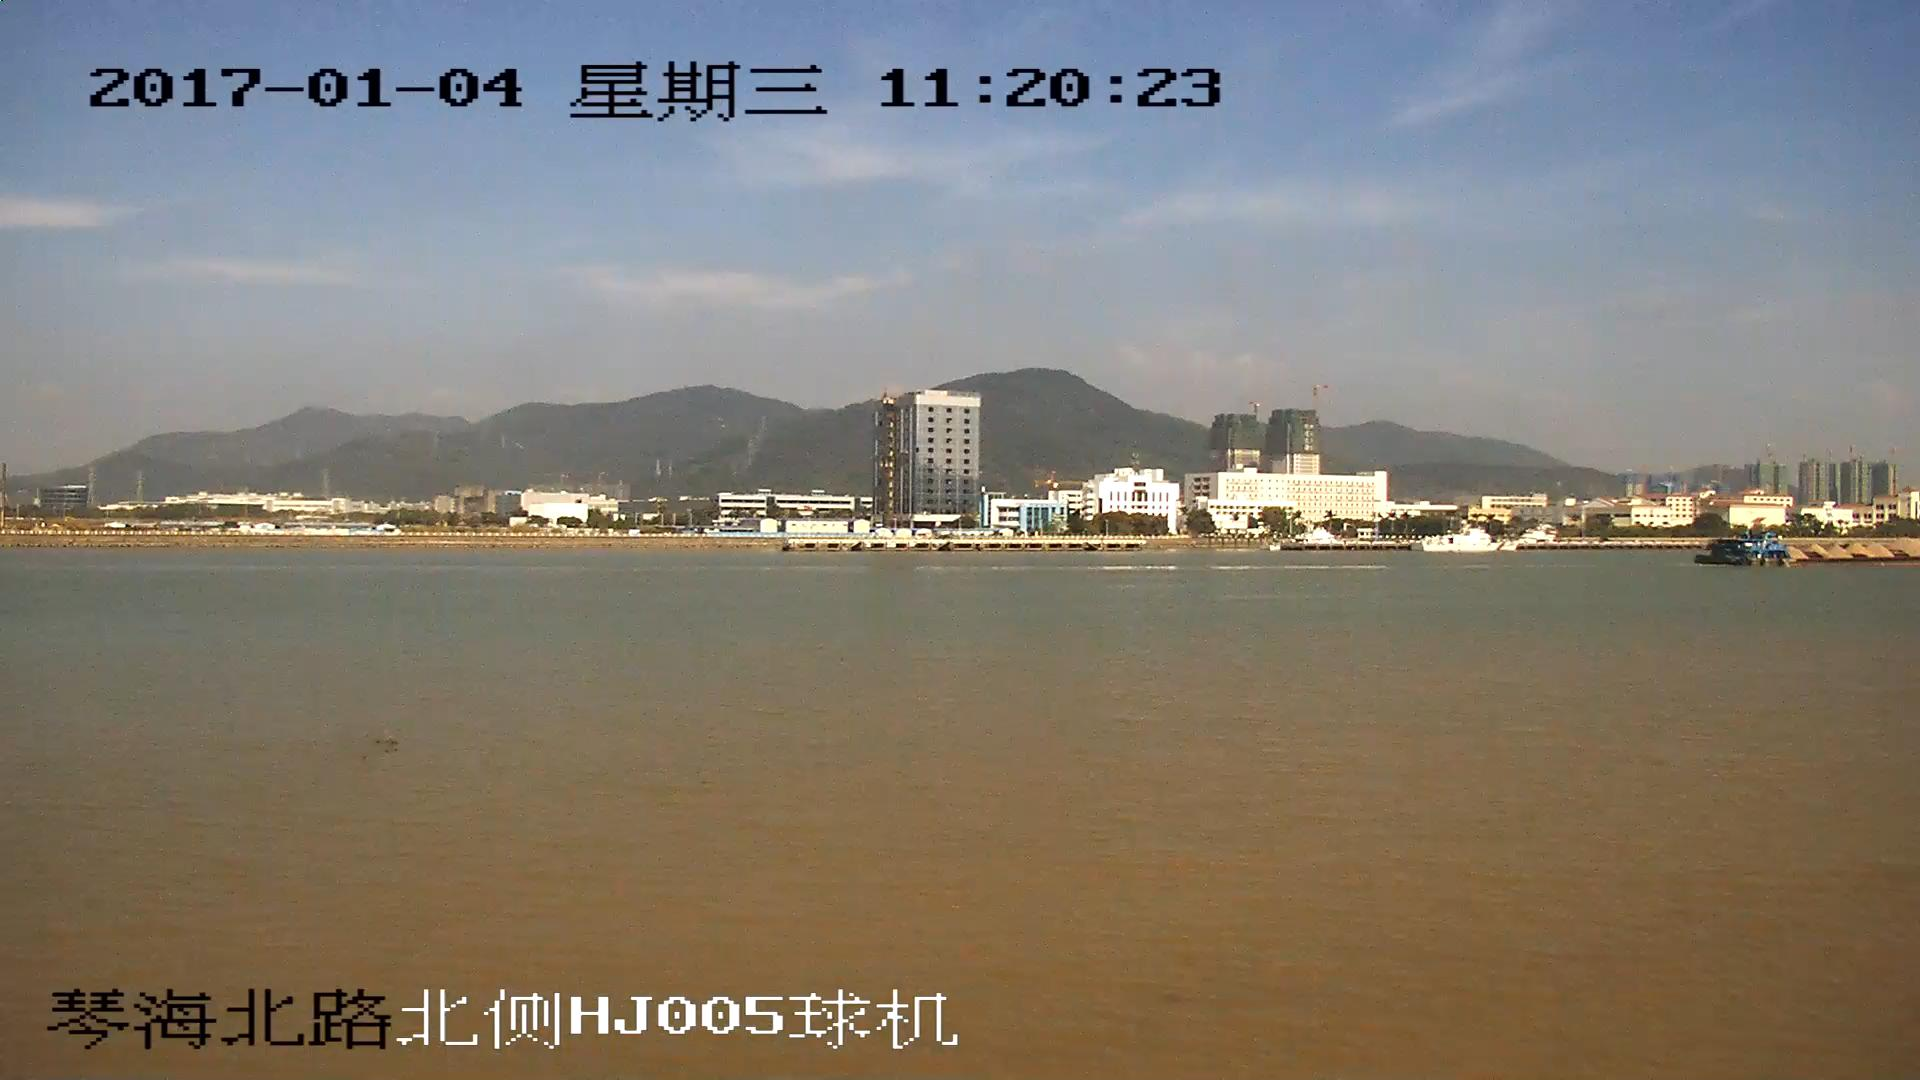ore carrier: (1694, 534, 1920, 566)
